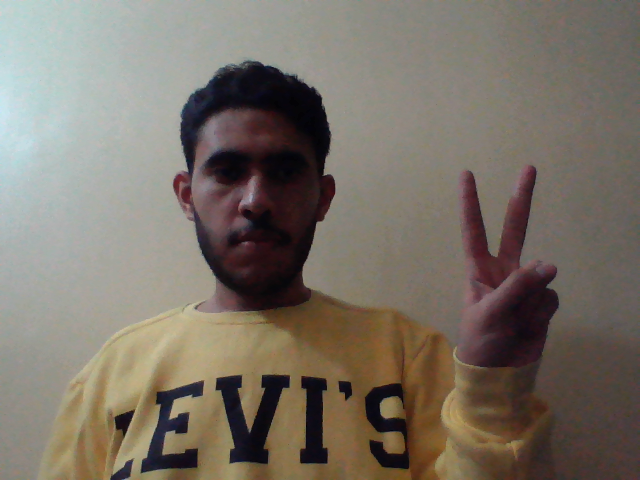V: (453, 157, 564, 391)
